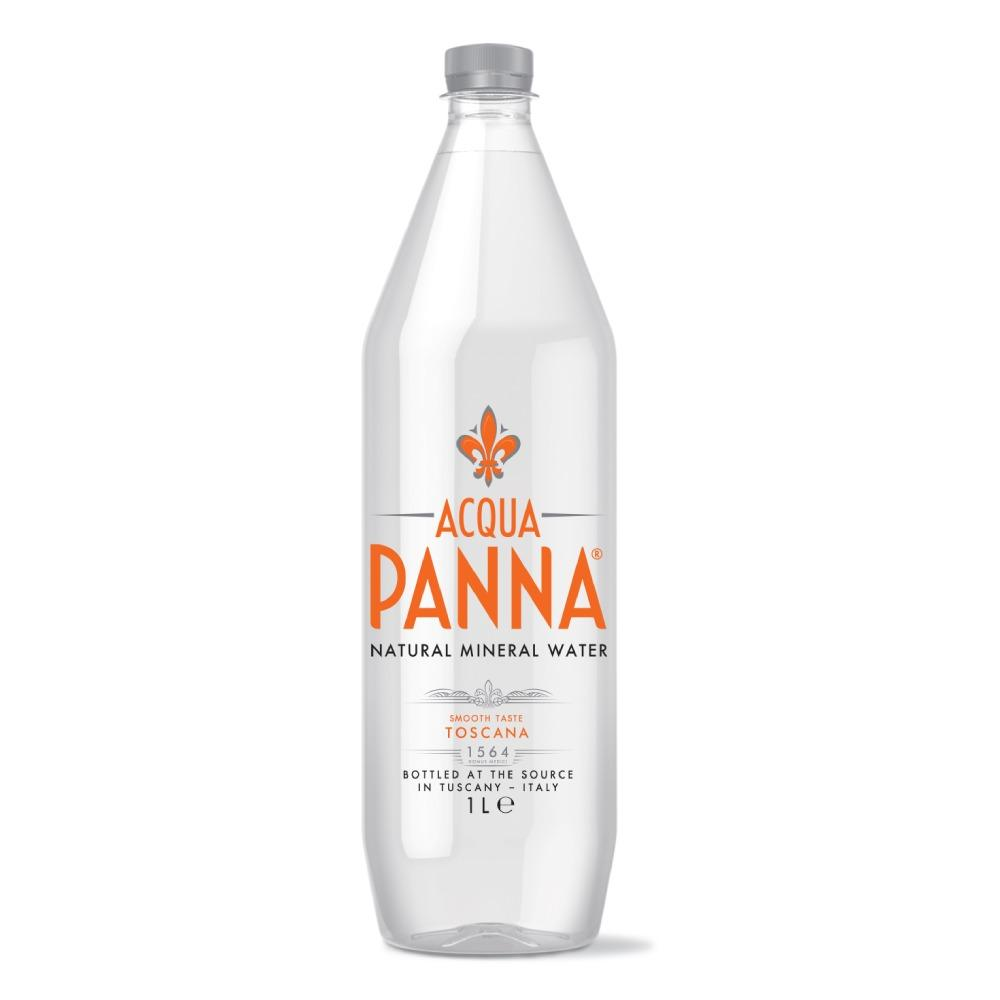plastic_bottle: (312, 27, 652, 973)
